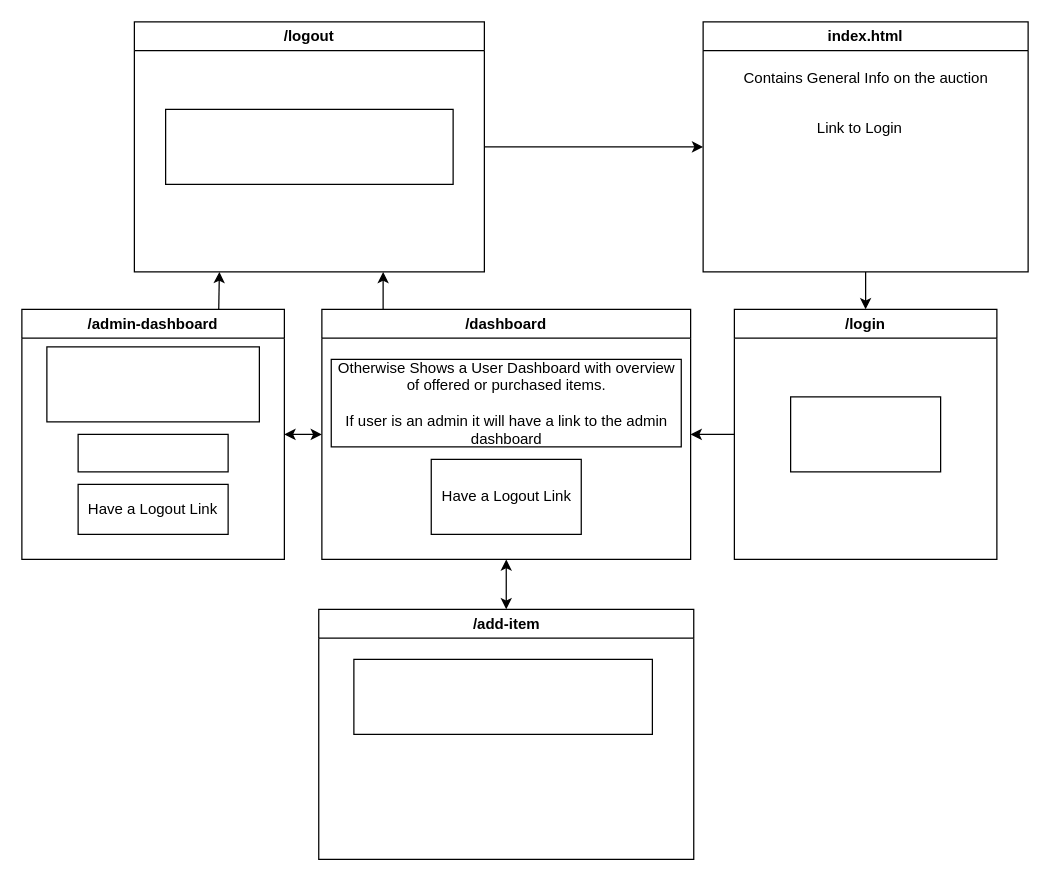
Some shapes in this 1050 by 881 pixel diagram are drawn without their labels. The centre of each missing label's shape, as x and y in pixels:
Allows User to add an item that they are going to sell: the point at 502,696
Lets the User know they are logged out and gives them a link to the main page: the point at 308,146
Login Page Authorizes Users using Hashed Password: the point at 865,434
Manage Approval Requests for new items: the point at 152,384
Manage Users: the point at 152,452
